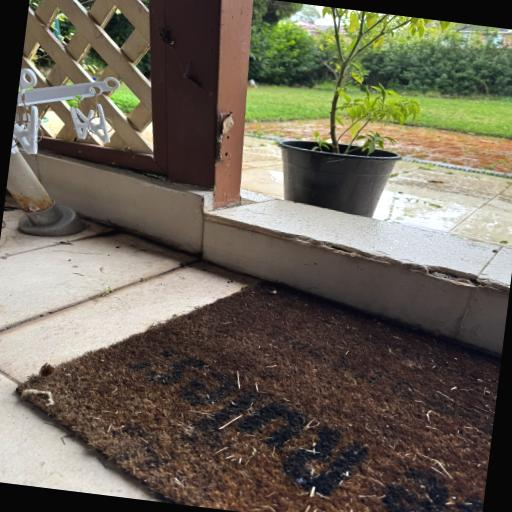step: (201, 199, 512, 357)
